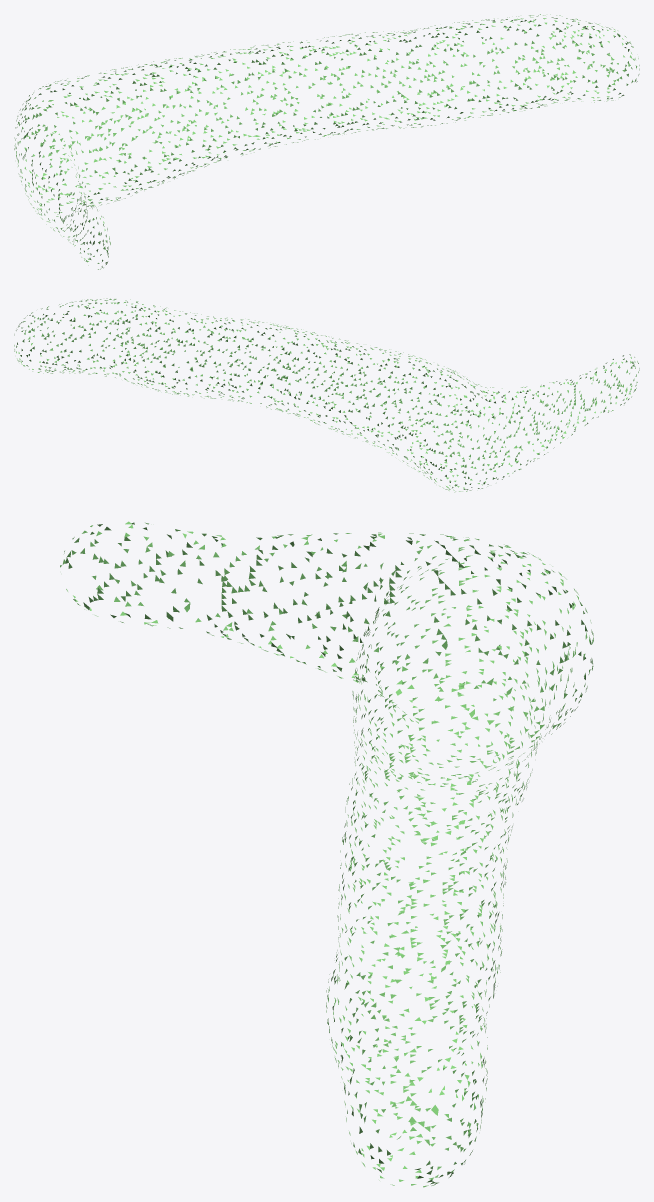
The model's file is morph_016.glb.
The picture shows the model from 3 angles, top to bottom: view 1: azimuth 30°, elevation 25°; view 2: azimuth 150°, elevation 25°; view 3: azimuth 270°, elevation 25°; orthographic projection. The views are drawn at different scales.
Bounding box in the file's own units: 134 × 25.64 × 57.38.
